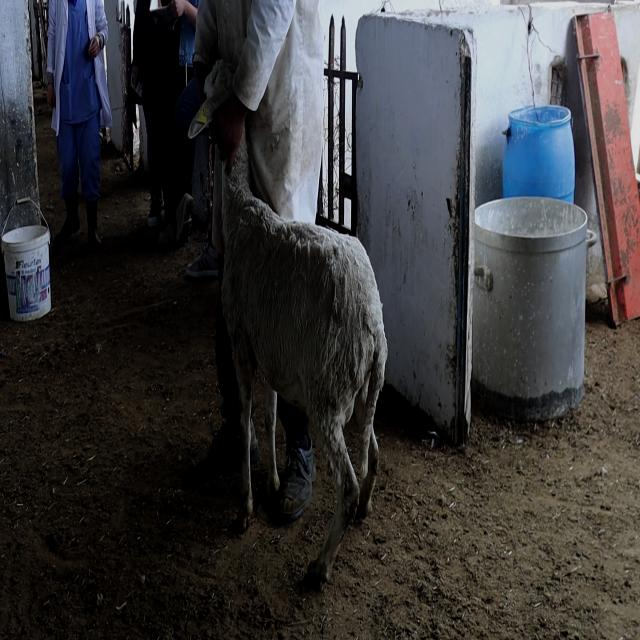Score_3: (220, 141, 387, 586)
